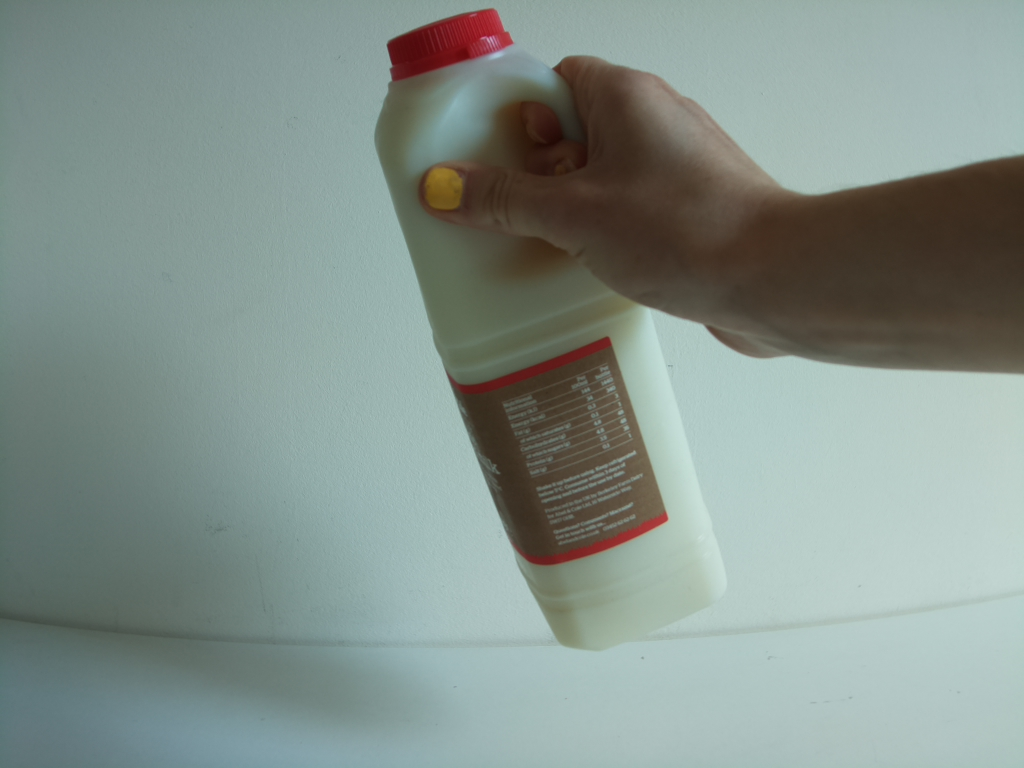milk: (380, 1, 738, 656)
